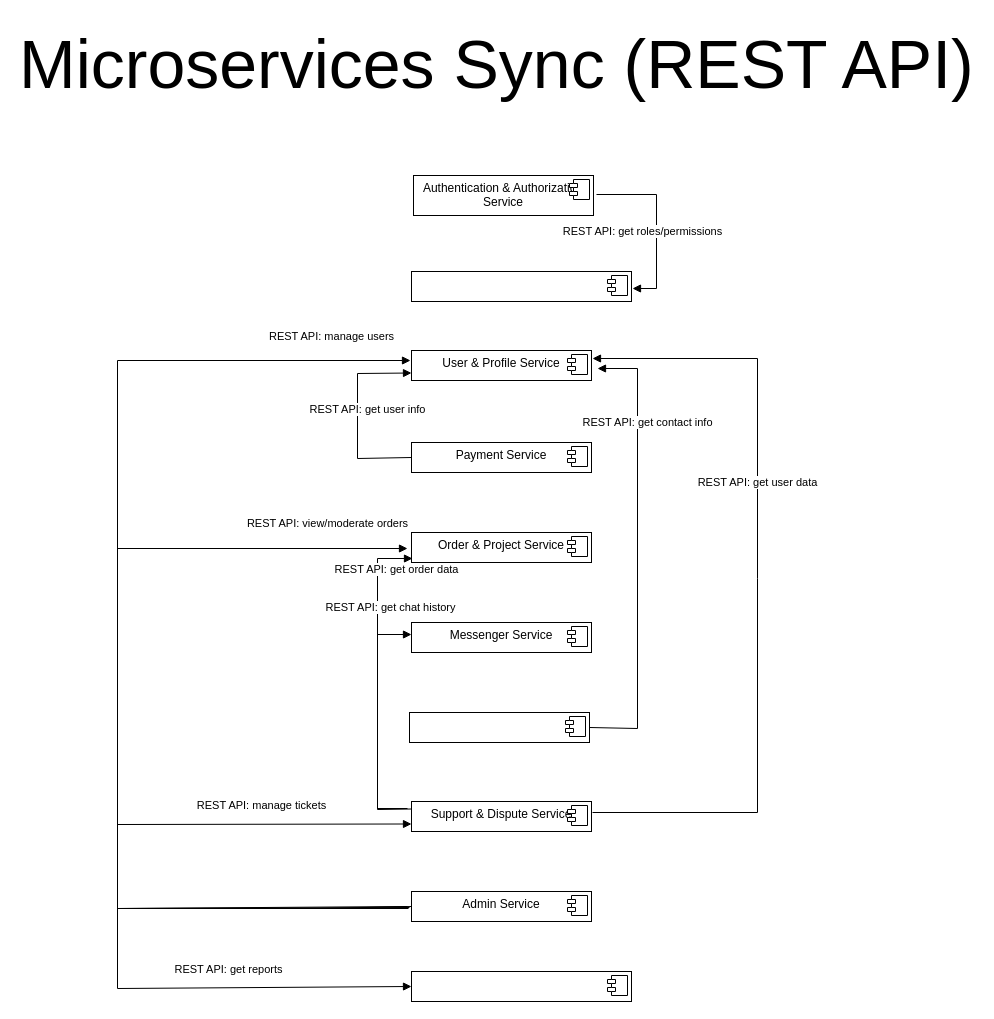
This 994x1019 diagram has some shape labels left out. Each missing label, with the centre of its shape:
"Analytics & Reporting Service" goes at (x=521, y=986).
"Notification Service" goes at (x=499, y=727).
"Roles & Permissions Service" goes at (x=521, y=286).
